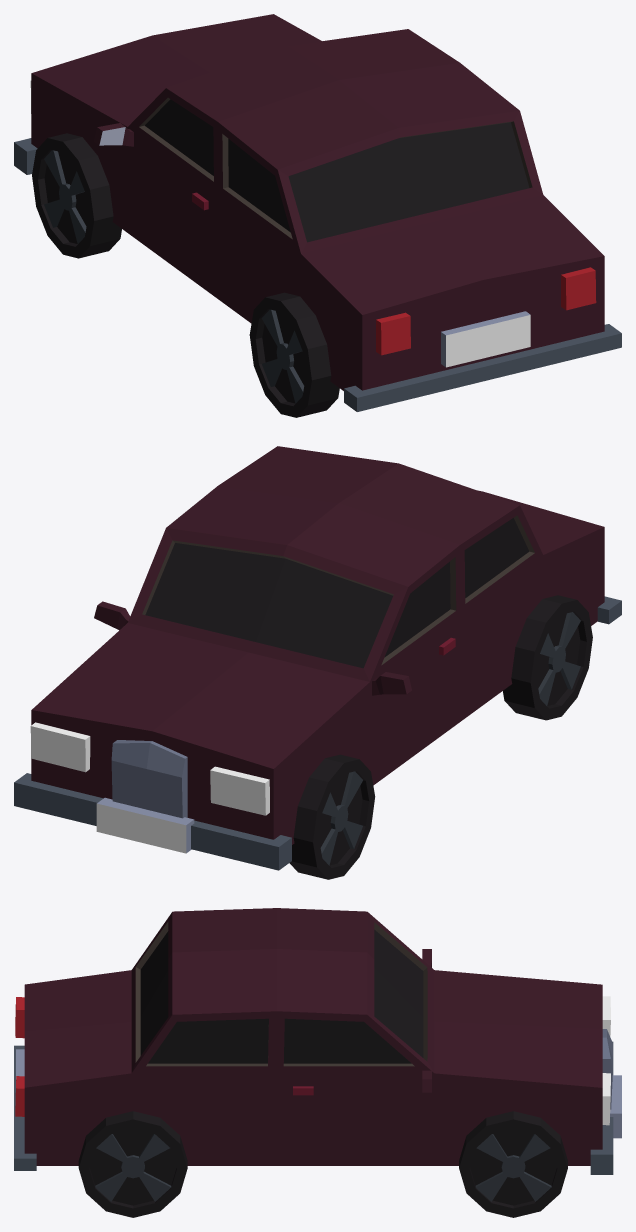
The model's file is Car.fbx.
3 renders of one model, top to bottom at view 1: azimuth 30°, elevation 25°; view 2: azimuth 150°, elevation 25°; view 3: azimuth 270°, elevation 25°, orthographic. The views are drawn at different scales.
Visible parts, largest first — view 1: Cube; view 2: Cube; view 3: Cube.
Part boxes in pixels (box(x1,y1,x2,y2)): Cube: box(14, 14, 621, 417); Cube: box(14, 446, 621, 879); Cube: box(14, 908, 621, 1217).
Size of the model in its own units: 349 by 672 by 255.
